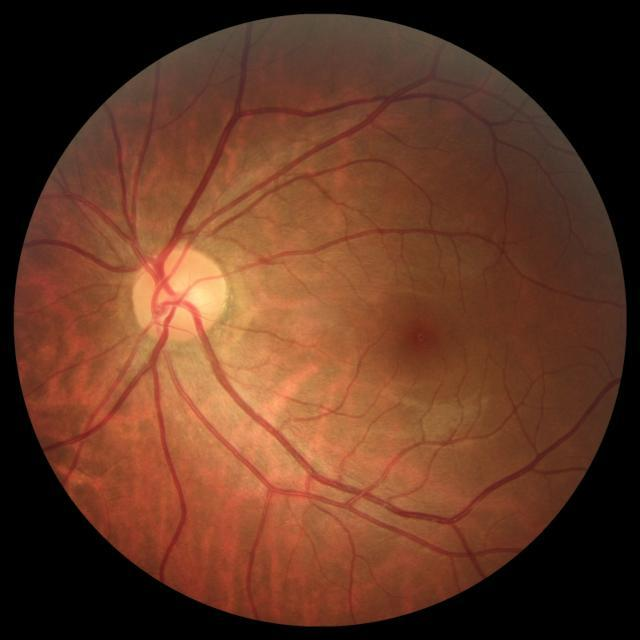OC: (160, 276, 206, 322)
OD: (132, 246, 228, 342)
